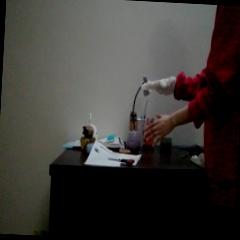gloved: (142, 77, 176, 97)
not-gloved: (144, 112, 176, 148)
